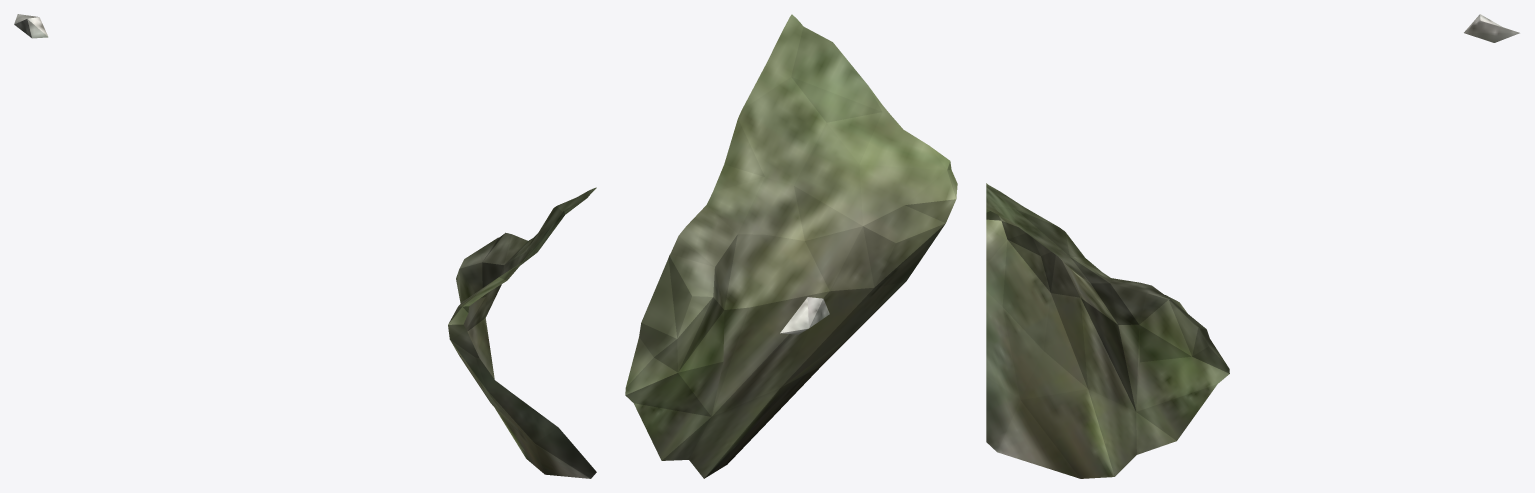
3 views of the same model, side by side, from view 1: azimuth 30°, elevation 25°; view 2: azimuth 150°, elevation 25°; view 3: azimuth 270°, elevation 25° (orthographic). The views are drawn at different scales.
Size of the model in its own units: 1.95 by 2.29 by 3.33.
Materials: 1 (1 with a texture image).
